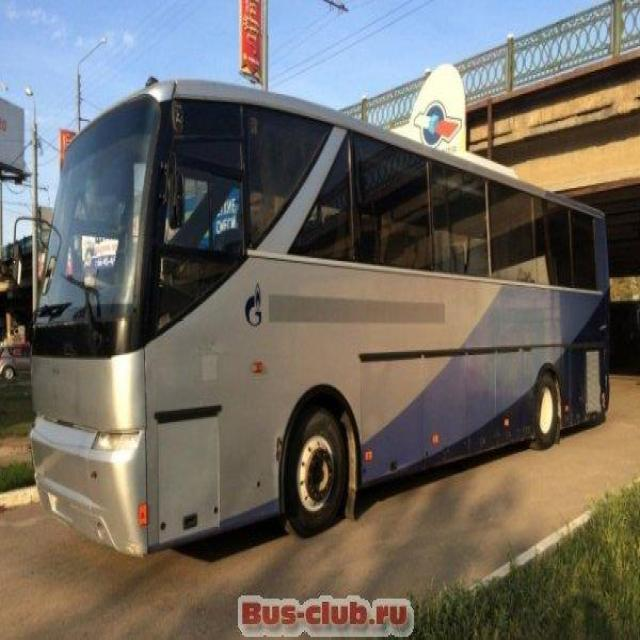bus: (27, 71, 618, 569)
